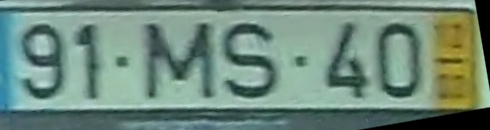0: (370, 19, 425, 102)
1: (68, 21, 101, 103)
4: (321, 19, 369, 102)
9: (16, 20, 66, 102)
M: (139, 19, 218, 101)
S: (218, 17, 280, 103)
